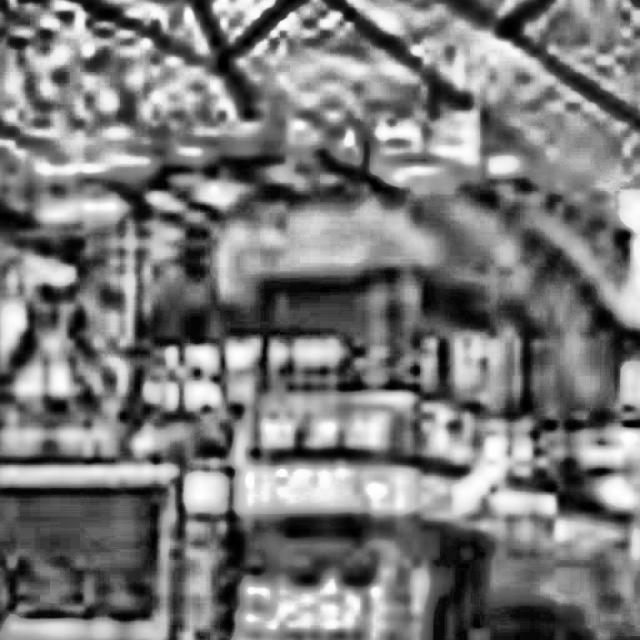dump_truck: (0, 123, 640, 640)
